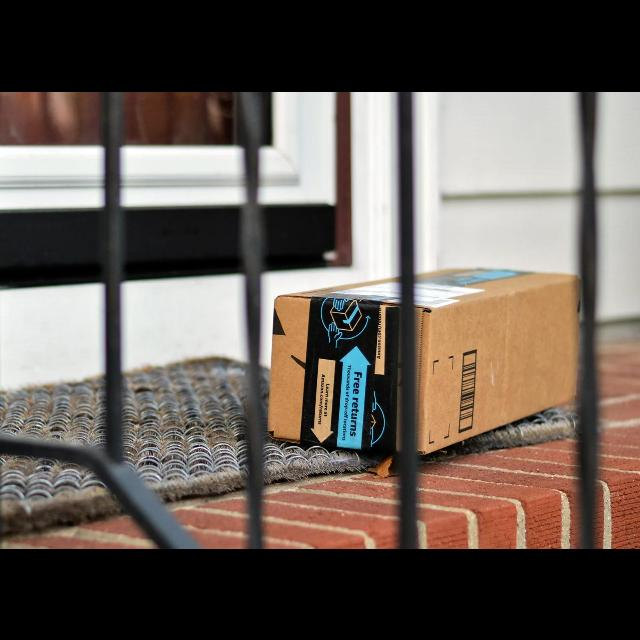box: (266, 266, 584, 458)
